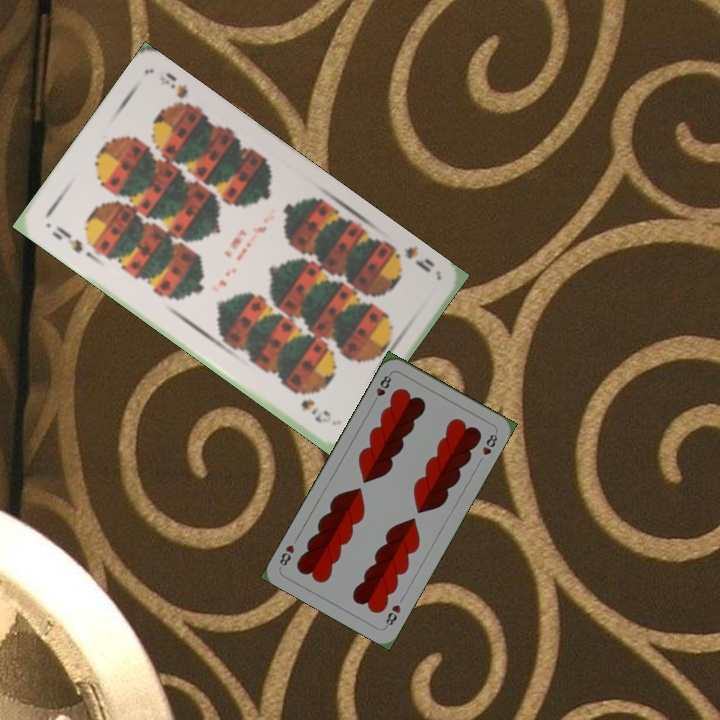H8: (369, 369, 394, 407), (381, 600, 403, 630)
S9: (386, 240, 438, 275), (47, 222, 86, 256)
